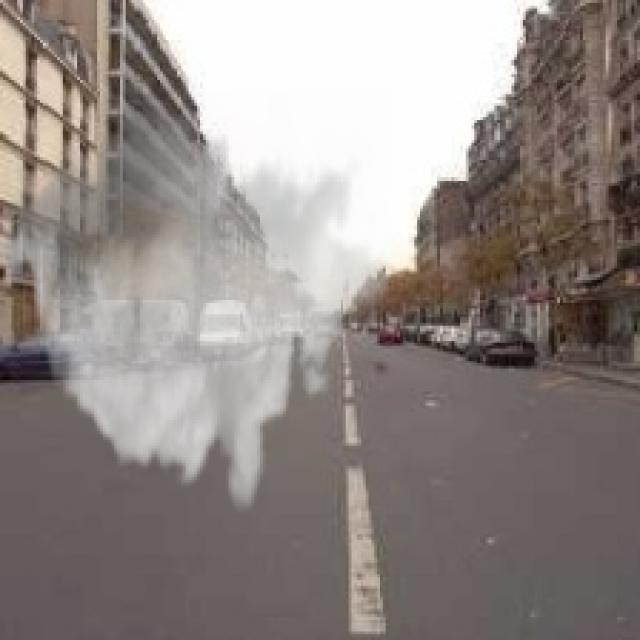smoke: (3, 92, 391, 517)
